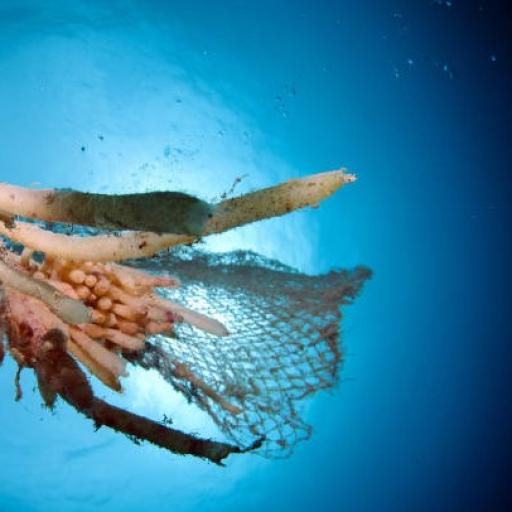net: (1, 168, 373, 468)
